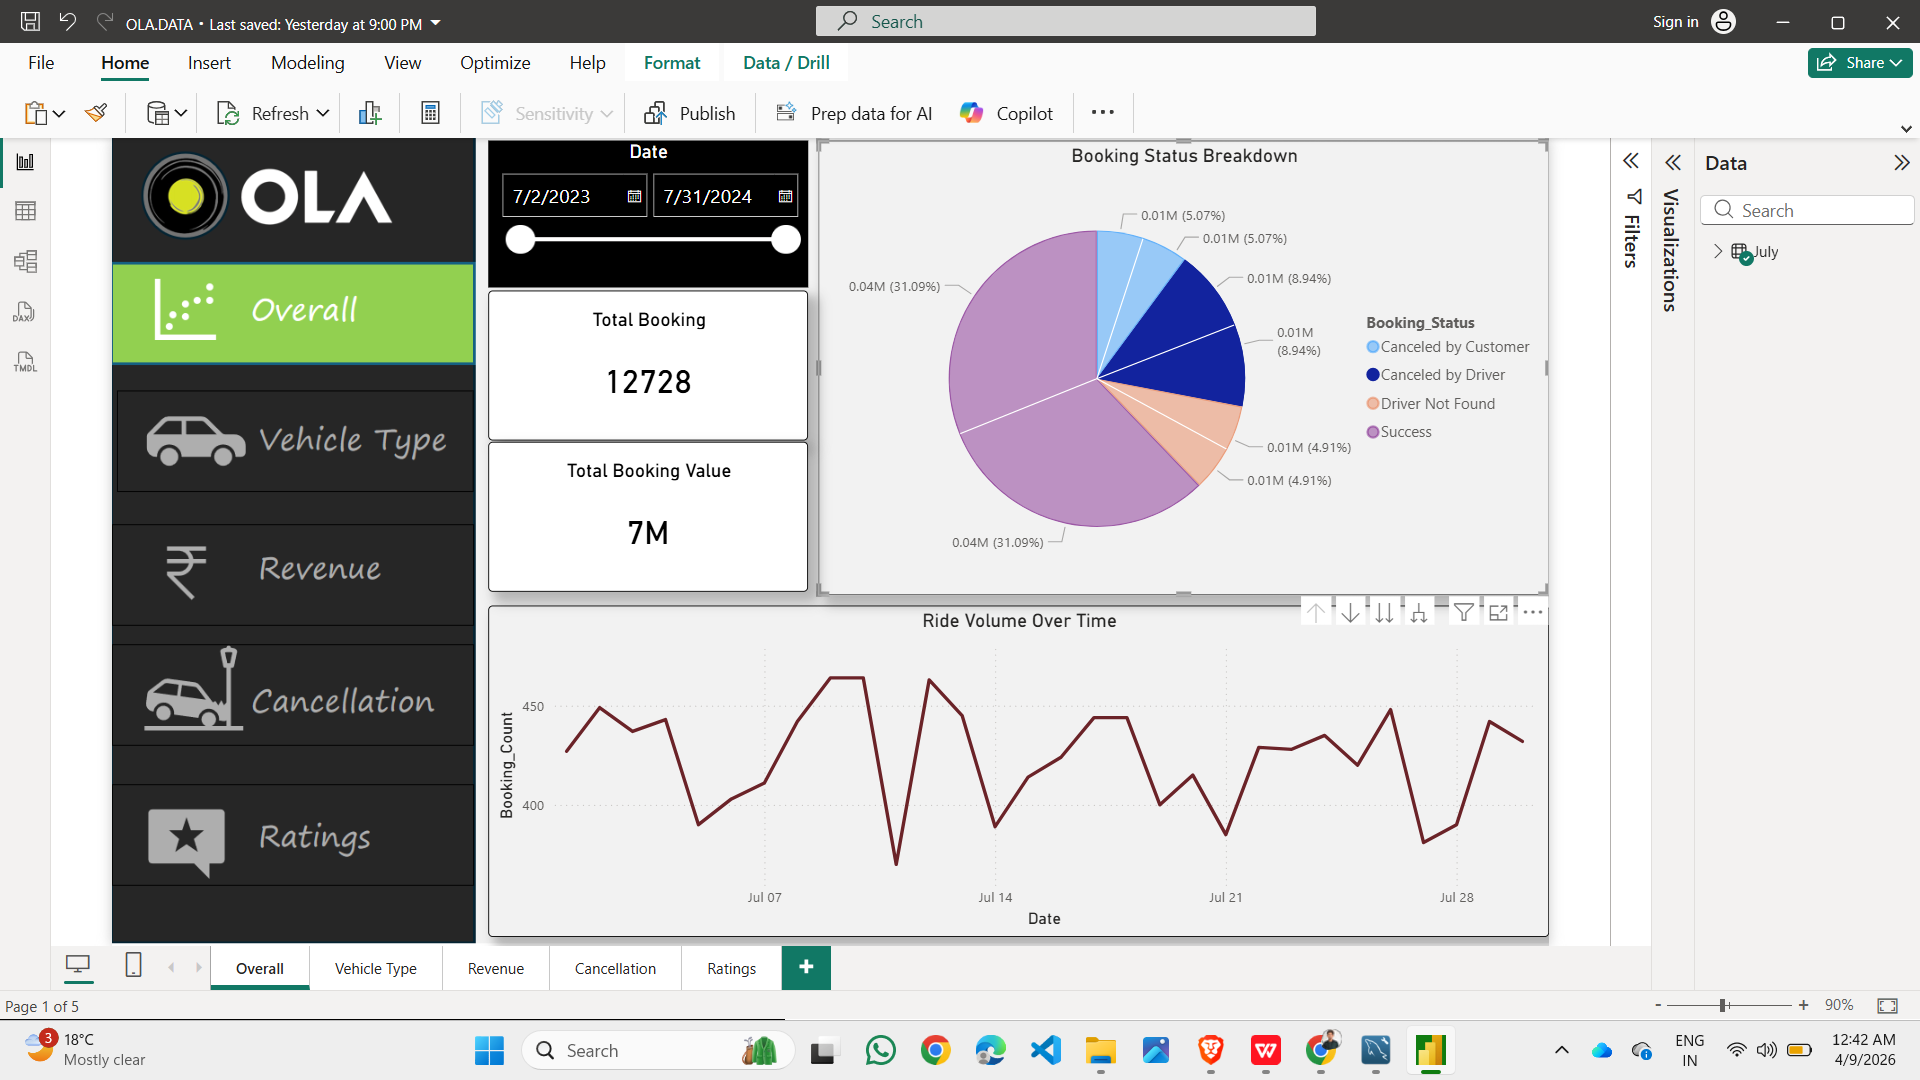

The dashboard page shown, as its layout file describes it:
{"tool":"powerbi","page":{"name":"Overall","canvas":[1280,720],"ordinal":0},"visuals":[{"type":"actionButton","box":[4.4,224.4,317.8,90],"z":0},{"type":"actionButton","box":[0,344.4,322.2,90],"z":1000},{"type":"actionButton","box":[0,451.1,322.2,90],"z":2000},{"type":"actionButton","box":[0,575.6,322.2,90],"z":3000},{"type":"actionButton","box":[0,106.7,322.2,90],"z":4000},{"type":"lineChart","title":"Ride Volume Over Time","fields":{"Category":["July.Date"],"Y":["CountNonNull(July.Booking_ID)"]},"box":[335,416.2,945,295],"z":5000},{"type":"pieChart","title":"Booking Status Breakdown","fields":{"Category":["July.Booking_Status","July.Date"],"Y":["CountNonNull(July.Booking_Status)","CountNonNull(July.Booking_ID)"]},"box":[628.8,2.5,651.2,405],"z":6000},{"type":"slicer","title":"Date","fields":{"Values":["July.Date"]},"box":[335,2.5,285,130],"z":7000},{"type":"card","title":"Total Booking ","fields":{"Values":["CountNonNull(July.Booking_ID)"]},"box":[335,136.2,285,133.8],"z":8000},{"type":"card","title":"Total Booking Value","fields":{"Values":["Sum(July.Booking_Value)"]},"box":[335,270,285,133.8],"z":9000}]}

Visuals, with their boxes on the page's 1280x720 design canvas (x1, y1, x2, y2). These are canvas units, not pixel positions in the 1920x1080 screenshot, which may show the page scaled, cropped or inside an application window:
actionButton: pyautogui.locateOnScreen(4, 224, 322, 314)
actionButton: pyautogui.locateOnScreen(0, 344, 322, 434)
actionButton: pyautogui.locateOnScreen(0, 451, 322, 541)
actionButton: pyautogui.locateOnScreen(0, 576, 322, 666)
actionButton: pyautogui.locateOnScreen(0, 107, 322, 197)
"Ride Volume Over Time" lineChart: pyautogui.locateOnScreen(335, 416, 1280, 711)
"Booking Status Breakdown" pieChart: pyautogui.locateOnScreen(629, 2, 1280, 408)
"Date" slicer: pyautogui.locateOnScreen(335, 2, 620, 132)
"Total Booking " card: pyautogui.locateOnScreen(335, 136, 620, 270)
"Total Booking Value" card: pyautogui.locateOnScreen(335, 270, 620, 404)
